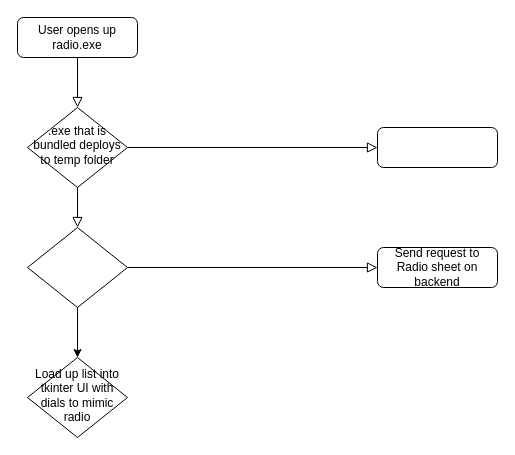
Image size: 515x455. Some labels were removed from this diagram. Each missing label, with the box of its shape:
Create temp folder and unpack radio: (376, 126, 498, 168)
Get list of Radio stations from websites: (26, 226, 128, 308)
